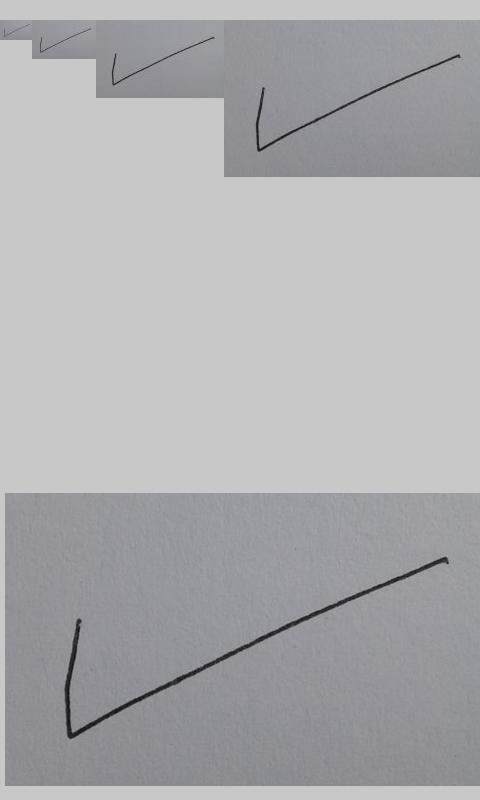check_box: (63, 556, 446, 740), (254, 53, 460, 152), (111, 36, 215, 86), (39, 28, 91, 53), (3, 24, 29, 37)
